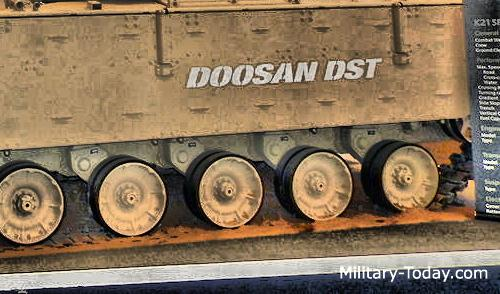tanks: (1, 1, 468, 238)
